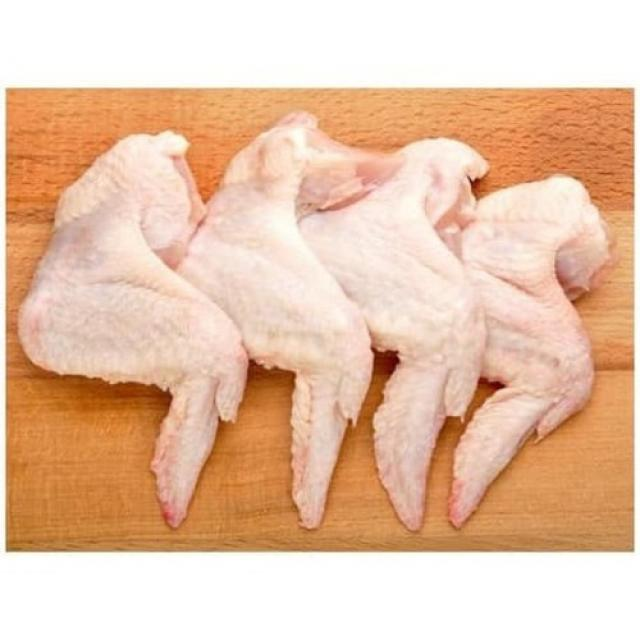chicken: (23, 125, 610, 530), (22, 130, 245, 531), (183, 112, 385, 529), (309, 128, 484, 524), (450, 174, 612, 527)
